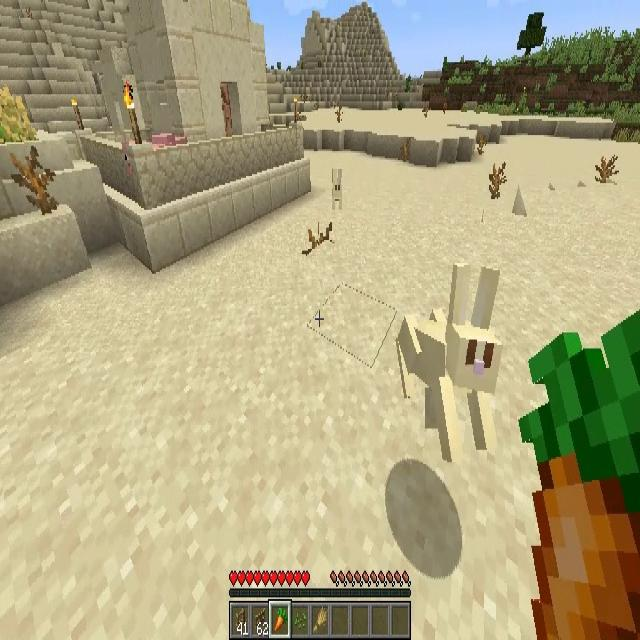rabbit: (396, 264, 503, 463), (331, 170, 344, 210)
